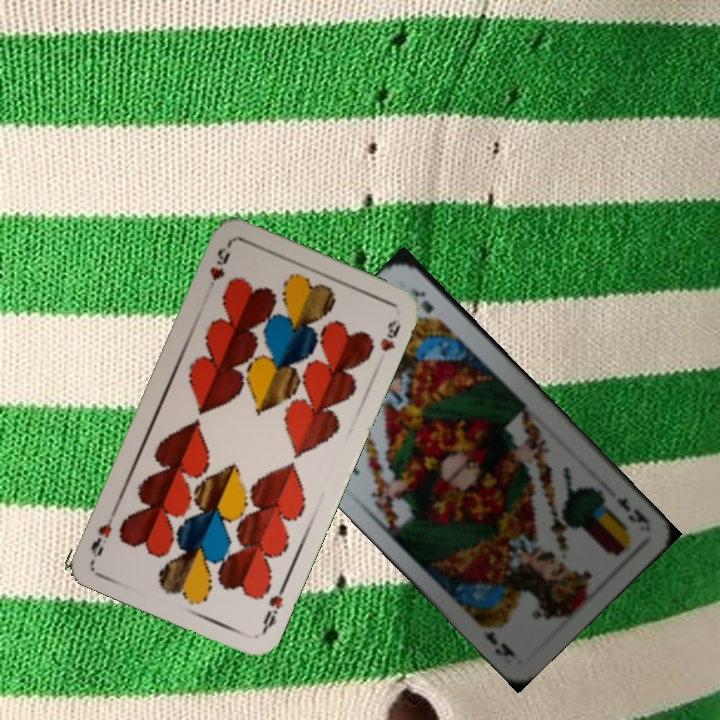EK: (612, 493, 653, 529)
H9: (258, 579, 290, 635), (203, 239, 234, 296)
